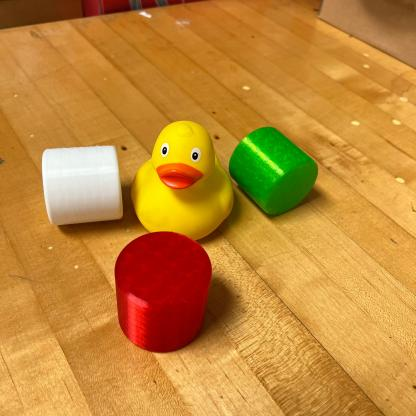duck: (130, 118, 233, 232)
green cylinder: (227, 124, 319, 216)
red cylinder: (112, 229, 216, 356)
white cylinder: (40, 144, 126, 227)
